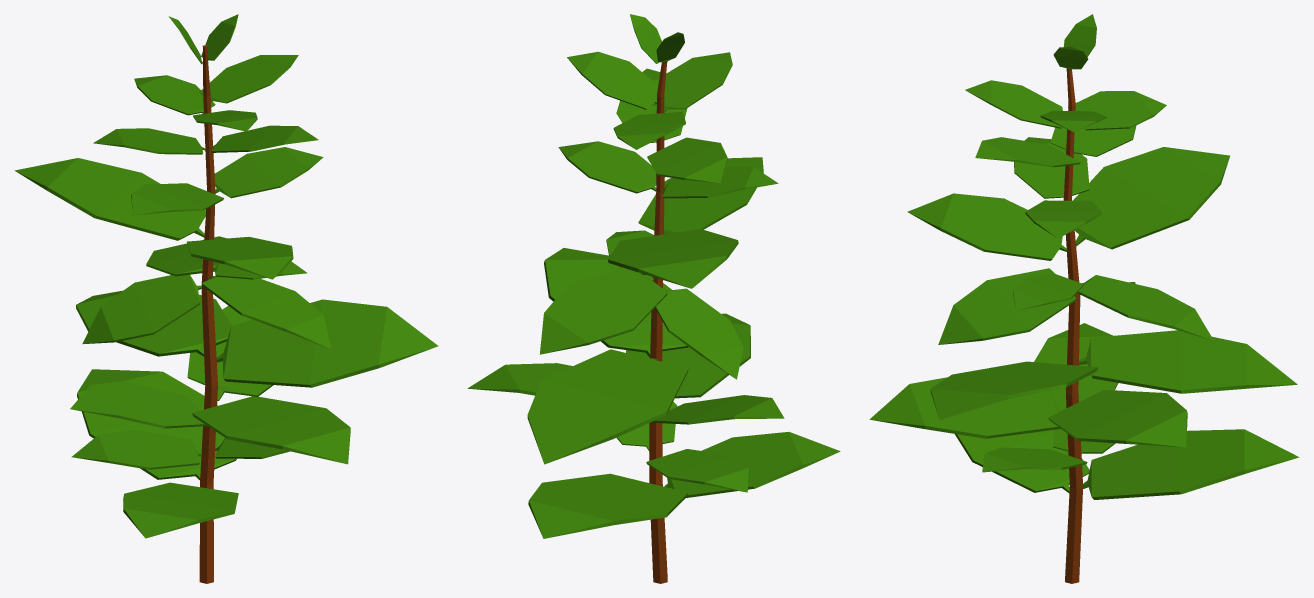
Rendered from Plant_g_01.fbx.
3 views of the same model, side by side, from view 1: azimuth 30°, elevation 25°; view 2: azimuth 150°, elevation 25°; view 3: azimuth 270°, elevation 25° (orthographic).
Parts seen in each view (by area): view 1: Plant_g_01_LOD0; view 2: Plant_g_01_LOD0; view 3: Plant_g_01_LOD0.
Boxes of the visible parts, box(x1,y1,x2,y2) form: Plant_g_01_LOD0: box(14, 14, 438, 583); Plant_g_01_LOD0: box(467, 14, 840, 583); Plant_g_01_LOD0: box(869, 14, 1299, 583).
Size of what is drawn, in the model's own units: 16.45 by 30.03 by 21.18.
